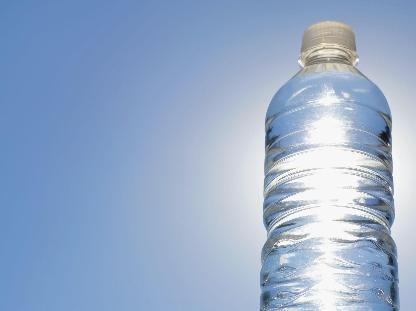Plastic Bottle: (259, 20, 402, 311)
